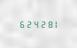eight: (46, 20, 52, 28)
four: (32, 20, 38, 28)
one: (53, 20, 59, 28)
six: (17, 20, 23, 28)
two: (24, 20, 30, 28), (39, 20, 45, 28)
